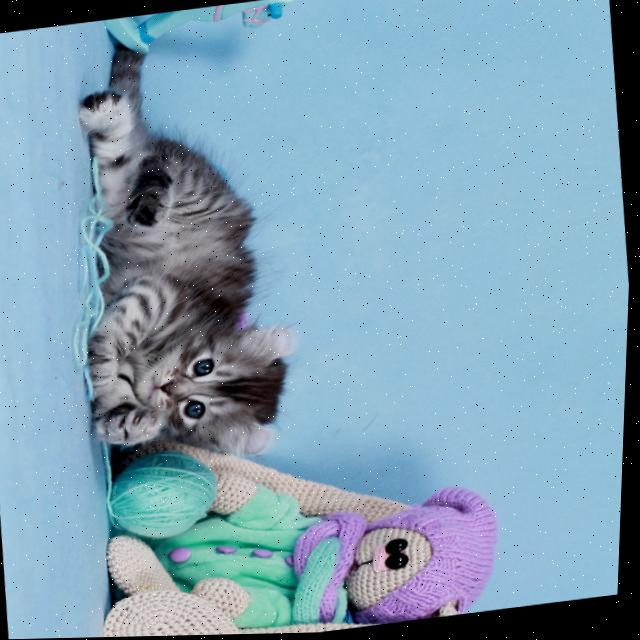American Curl: (48, 25, 322, 476)
